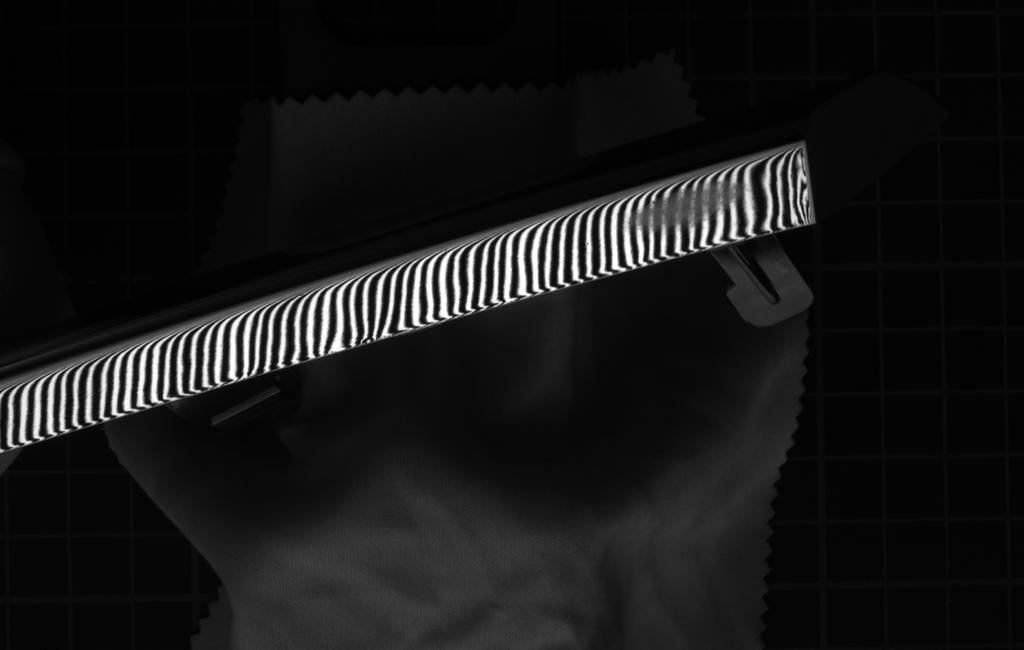Pitting: (618, 171, 757, 242)
